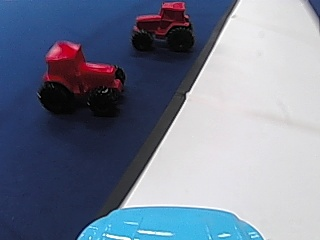tractor: (35, 37, 126, 116), (130, 1, 198, 52)
